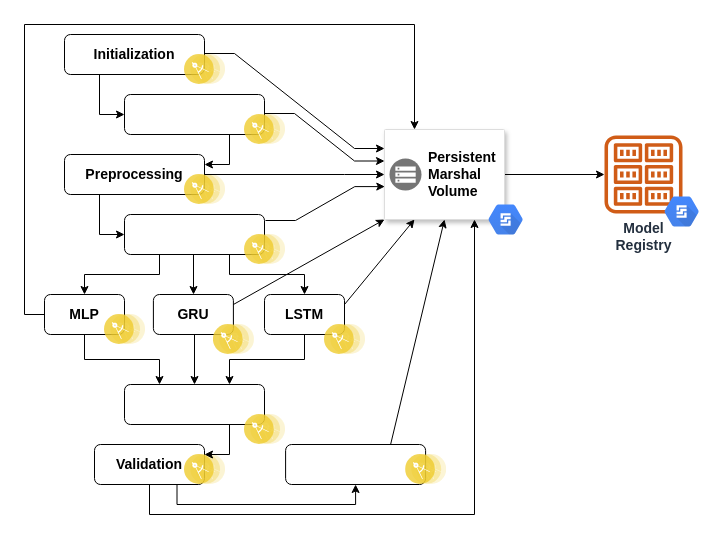
Some shapes in this 716 by 540 pixel diagram are drawn without their labels. The centre of each missing label's shape, as x and y in pixels:
Data Loading: the point at 194,114
Export Model: the point at 355,464
Feature Engineering: the point at 194,234
Model Selection: the point at 194,404
